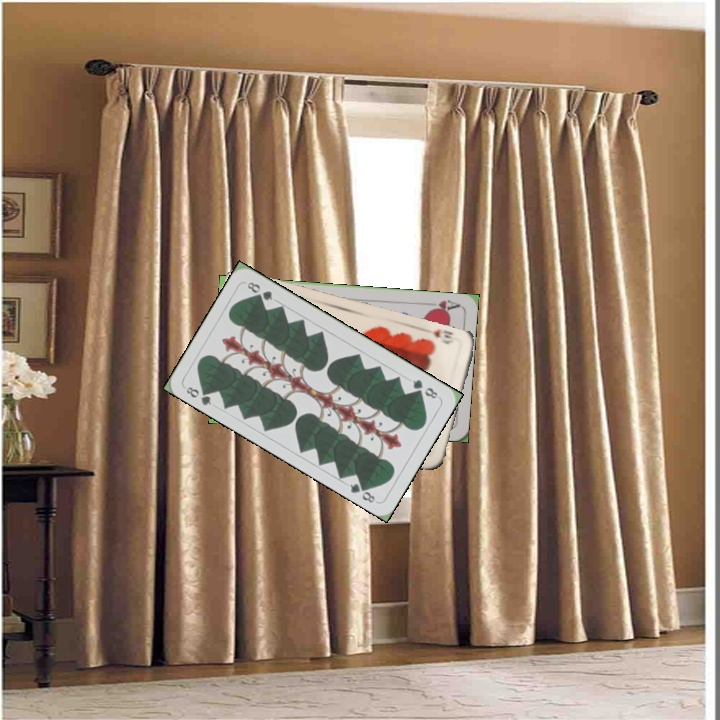G8: (409, 375, 441, 401), (182, 383, 214, 408)
H10: (421, 325, 456, 347)
HA: (421, 296, 462, 315)
